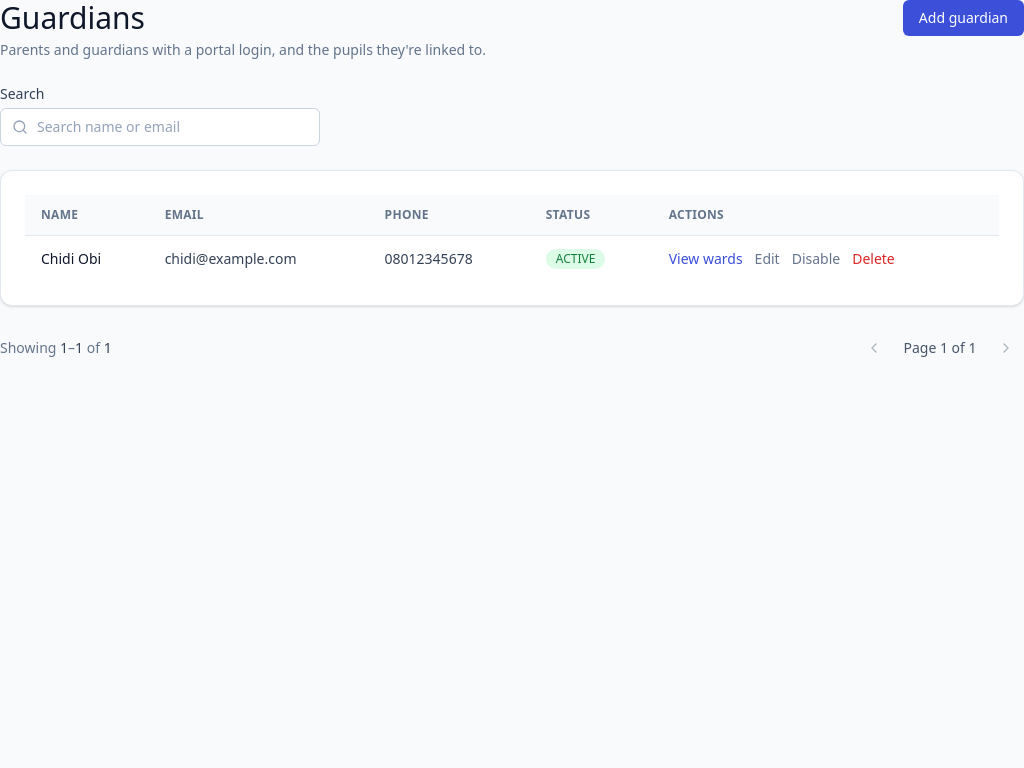
GuardiansPage › explains why a guardian with a fee payment can't be deleted
Check: the text "Chidi Obi" is shown, box [25,236,149,281]
Click the button "Delete" at x=874, y=258, box [852,248,895,268]
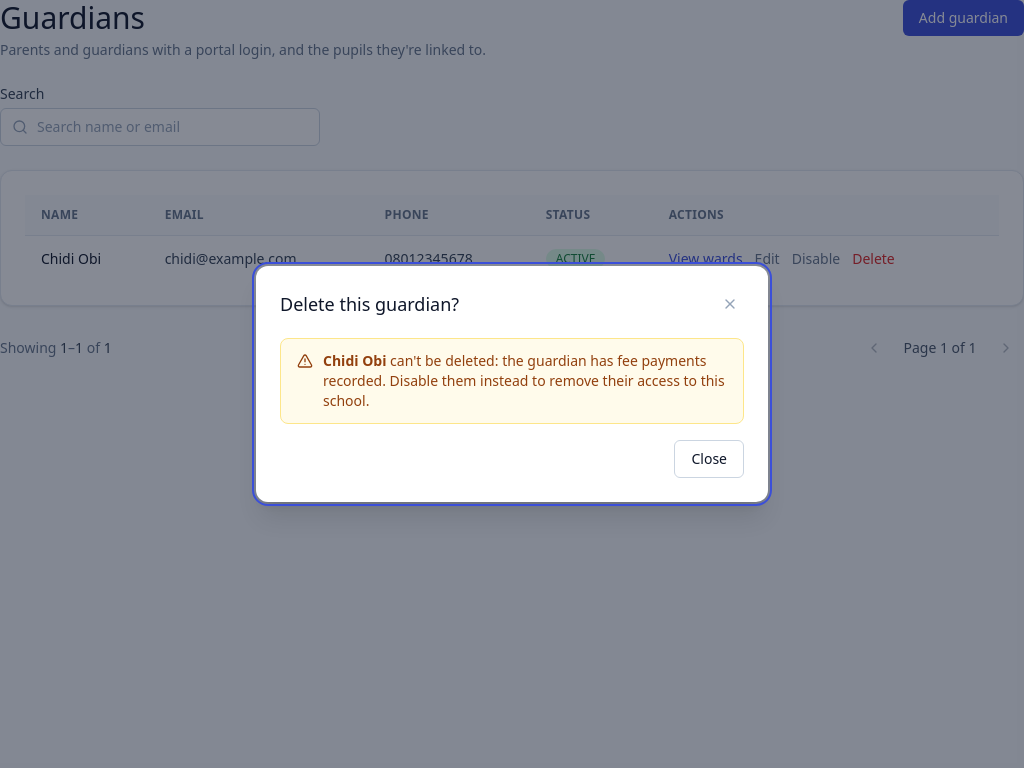
Check: the text "the guardian has fee payments recorded" is shown, box [323,351,706,390]
